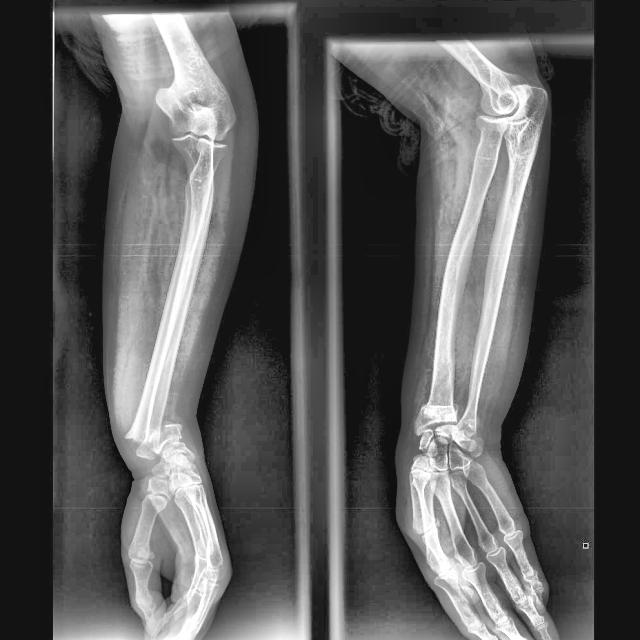fracture: (123, 429, 182, 456), (423, 402, 454, 408)
